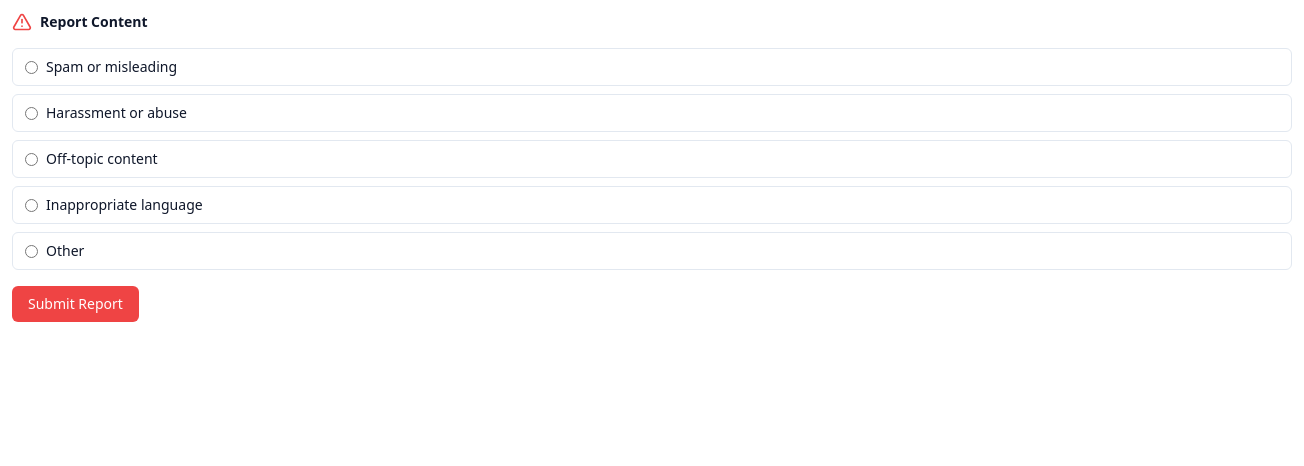
Test: FlagForm › shows error when Other selected but custom reason is empty
Click the label with test id "flag-reason-other".
click(65, 250)  # box [12,232,1292,270]
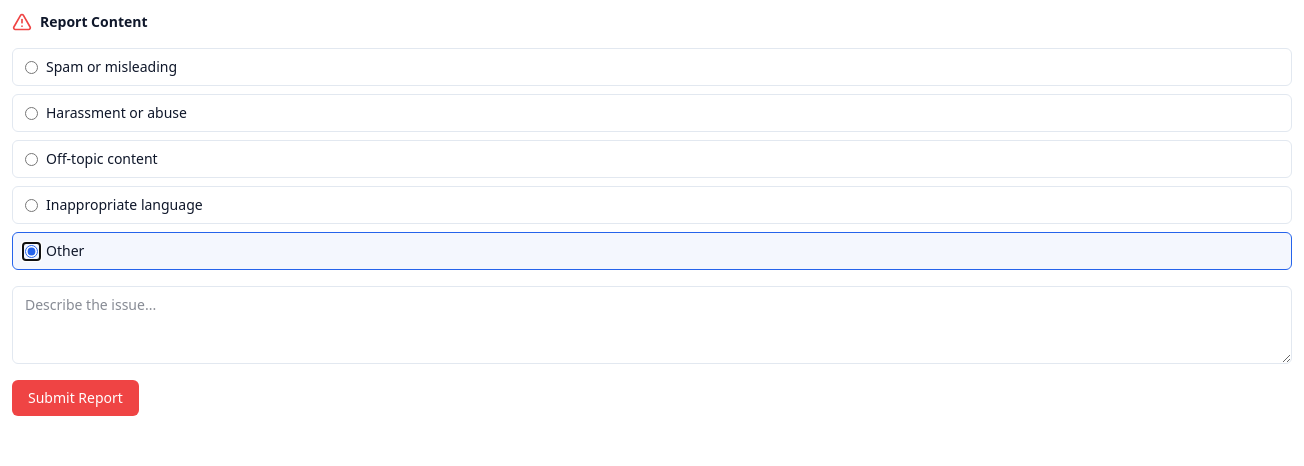
Click the button with test id "flag-submit-btn".
click(75, 398)  # box [12,380,139,416]
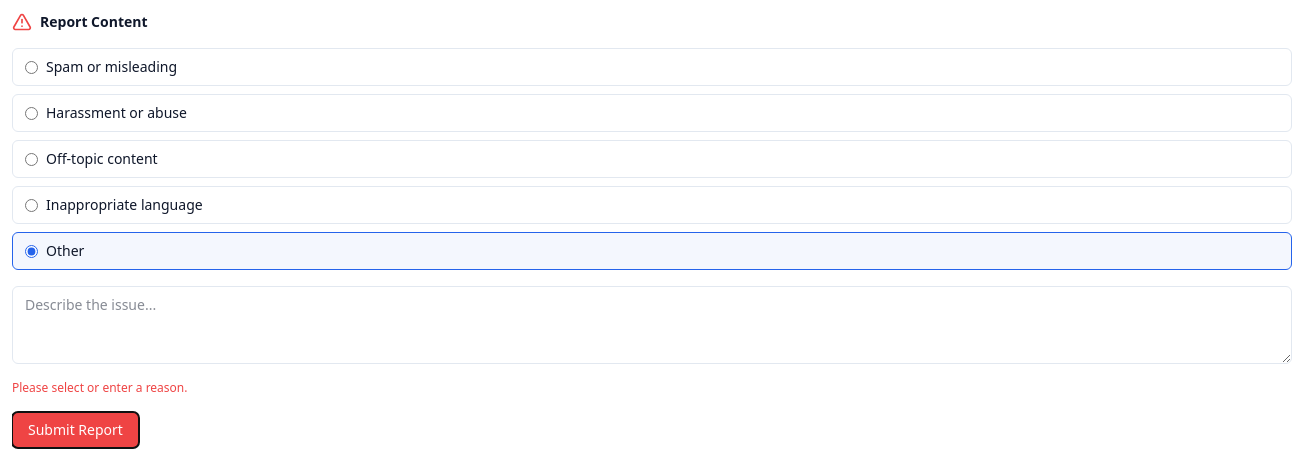
expect the text "Please select or enter a reason." is shown: met, box [12,379,188,396]
